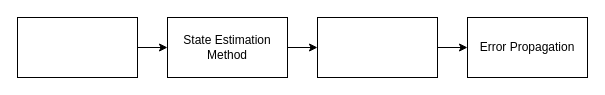
Image size: 605x95. Some labels were removed from this diagram. The centre of each missing label's shape, as x and y in pixels:
Radar Utility Examination: the point at 77,47
Velocity calculation: the point at 377,47
